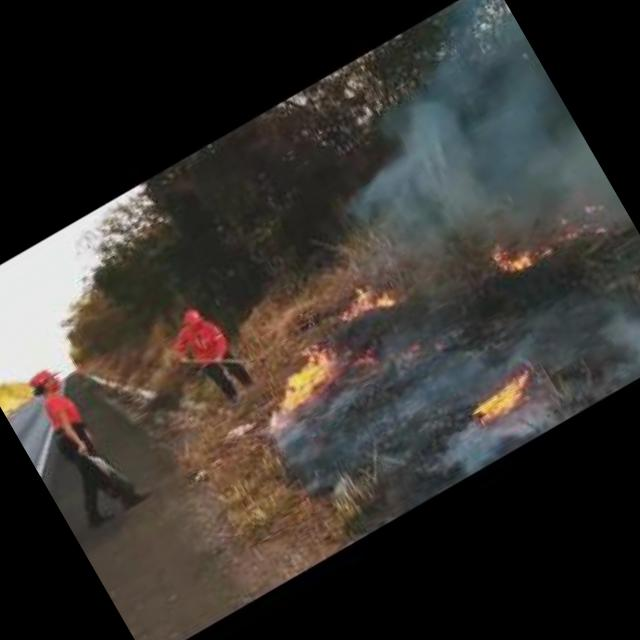fire: (266, 340, 342, 410), (468, 368, 540, 424), (348, 279, 396, 324), (488, 236, 534, 279)
smoke: (306, 0, 626, 323), (412, 371, 572, 494), (578, 269, 640, 388)
